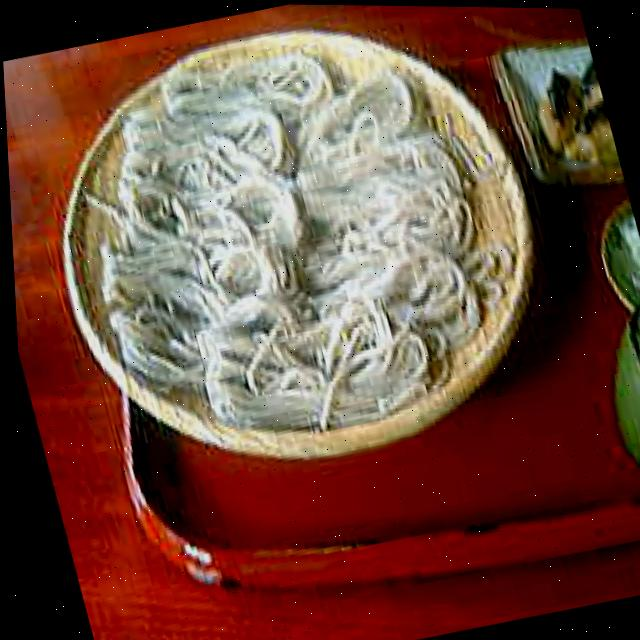面条主食: (0, 0, 601, 521)
